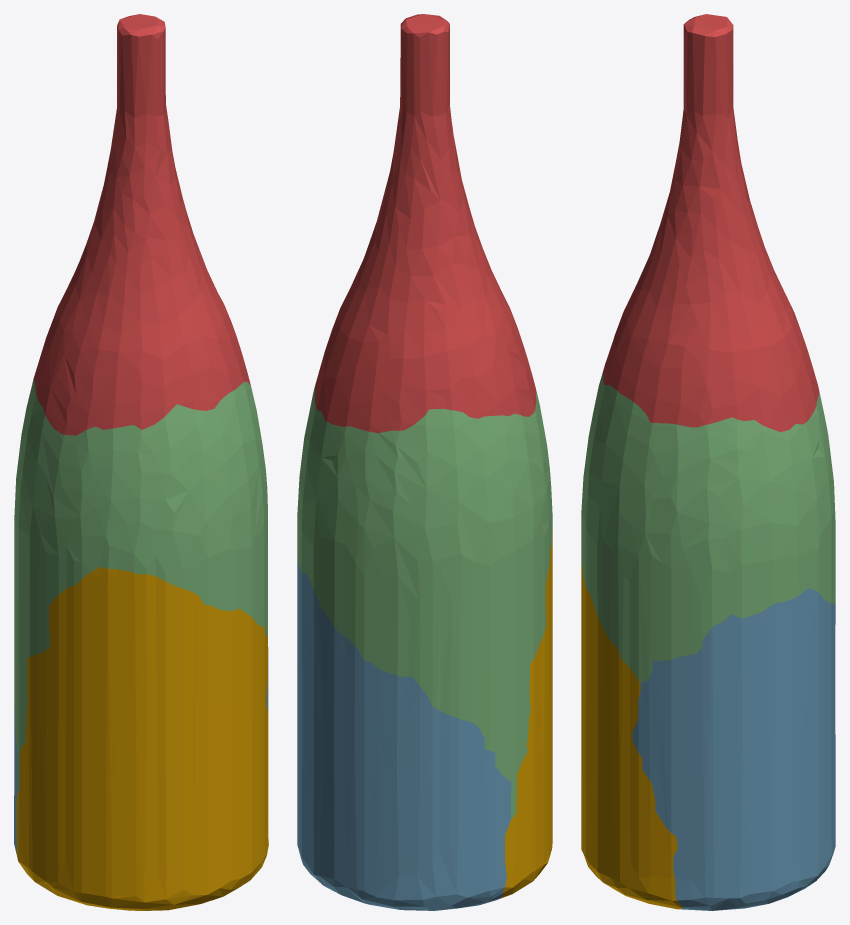
Rendered from mode_5_4pcs.glb.
3 views of the same model, side by side, from view 1: azimuth 30°, elevation 25°; view 2: azimuth 150°, elevation 25°; view 3: azimuth 270°, elevation 25° (orthographic).
Parts seen in each view (by area): view 1: piece_0.obj, piece_3.obj, piece_1.obj, piece_2.obj; view 2: piece_3.obj, piece_2.obj, piece_1.obj, piece_0.obj; view 3: piece_3.obj, piece_2.obj, piece_1.obj, piece_0.obj.
Boxes of the visible parts, left/top/right/bottom form: piece_0.obj: left=16, top=567, right=268, bottom=910; piece_3.obj: left=14, top=379, right=267, bottom=791; piece_1.obj: left=33, top=14, right=250, bottom=435; piece_2.obj: left=14, top=658, right=268, bottom=853; piece_3.obj: left=297, top=385, right=552, bottom=819; piece_2.obj: left=297, top=558, right=511, bottom=910; piece_1.obj: left=315, top=14, right=536, bottom=433; piece_0.obj: left=499, top=530, right=552, bottom=898; piece_3.obj: left=581, top=372, right=835, bottom=682; piece_2.obj: left=632, top=588, right=835, bottom=910; piece_1.obj: left=603, top=14, right=819, bottom=432; piece_0.obj: left=581, top=562, right=682, bottom=909.
Size of the model in its own units: 0.2734 by 1 by 0.2733.
